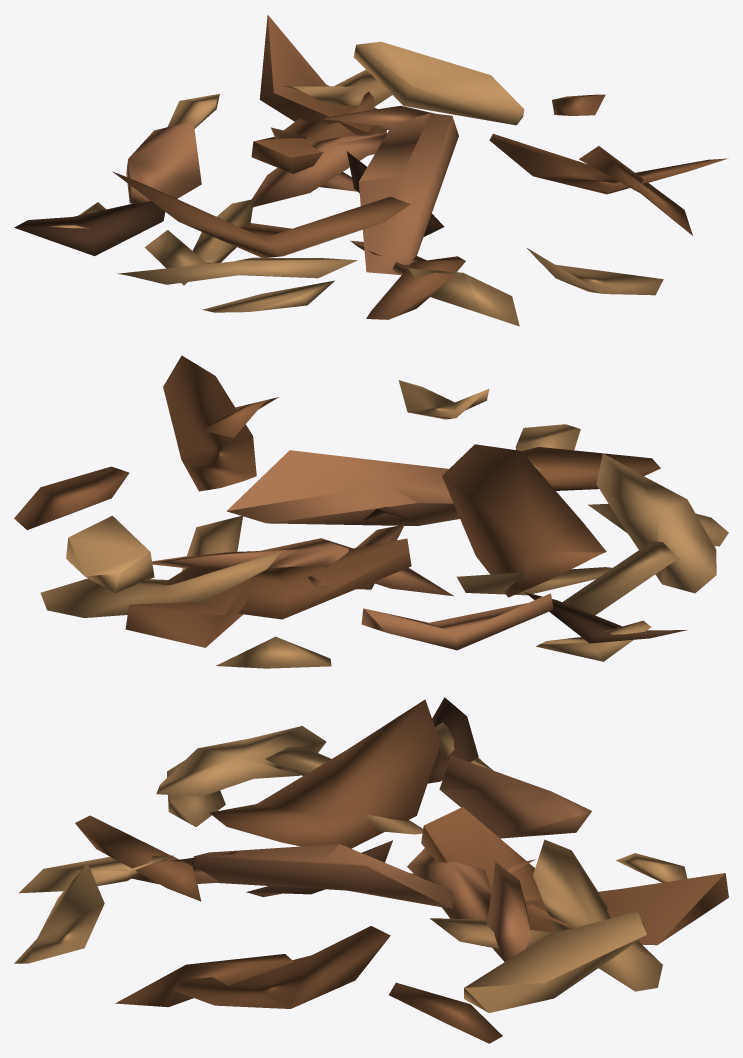
File: canopy_gc_bark_bits_a_lod1.glb
3 views of the same model, one above another, from view 1: azimuth 30°, elevation 25°; view 2: azimuth 150°, elevation 25°; view 3: azimuth 270°, elevation 25° (orthographic). The views are drawn at different scales.
Parts seen in each view (by area): view 1: canopy_gc_bark_bits_a.001; view 2: canopy_gc_bark_bits_a.001; view 3: canopy_gc_bark_bits_a.001.
Part boxes in pixels (<box>): canopy_gc_bark_bits_a.001: <box>14,15,728,326</box>; canopy_gc_bark_bits_a.001: <box>14,355,728,668</box>; canopy_gc_bark_bits_a.001: <box>14,697,728,1043</box>.
Size of the model in its own units: 3.63 by 0.4409 by 3.47.
